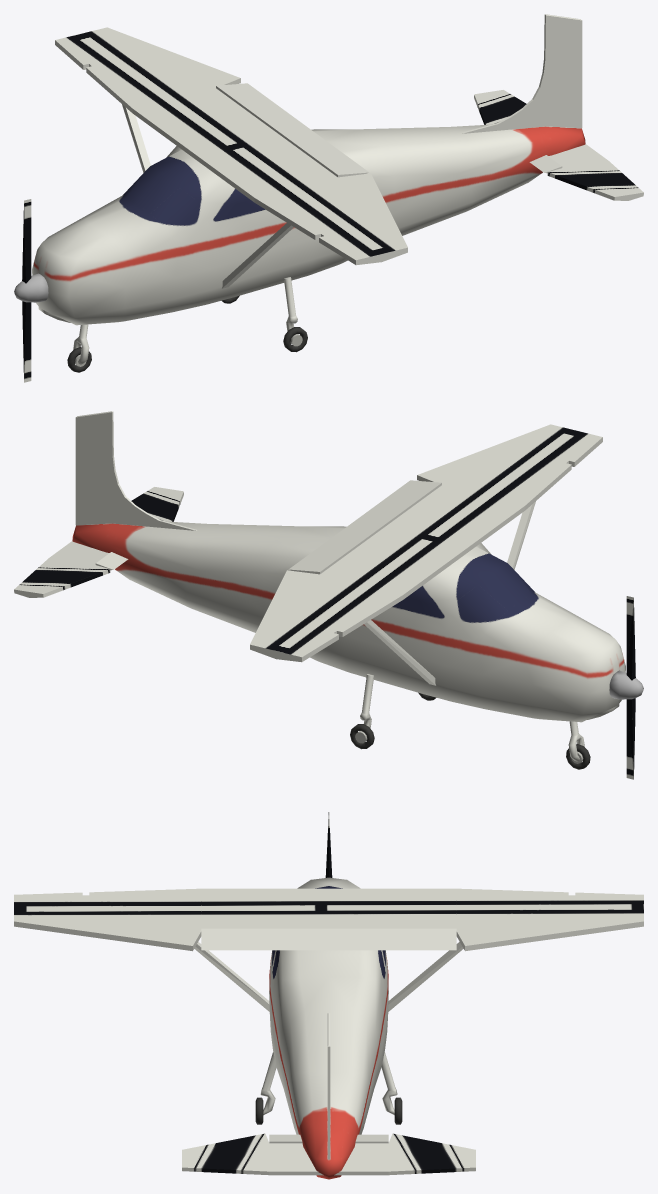
3 views of the same model, one above another, from view 1: azimuth 30°, elevation 25°; view 2: azimuth 150°, elevation 25°; view 3: azimuth 270°, elevation 25° (orthographic). The views are drawn at different scales.
Parts seen in each view (by area): view 1: Plane; view 2: Plane; view 3: Plane.
Part boxes in pixels (x1=…): Plane: x1=14, y1=14, x2=643, y2=382; Plane: x1=14, y1=411, x2=643, y2=779; Plane: x1=14, y1=812, x2=643, y2=1179.
Size of the model in its own units: 5.08 by 2.07 by 4.64.
Materials: 1 (1 with a texture image).
